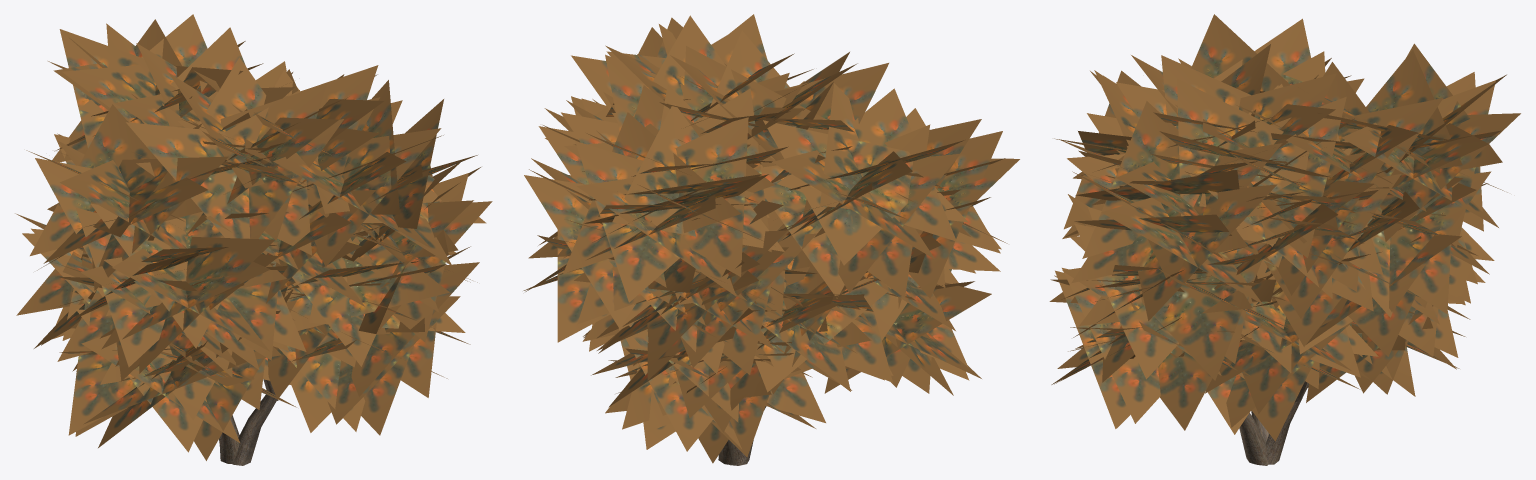
Rendered from Cerasus_Yedoensis_Autumn_Young.glb.
The picture shows the model from 3 angles, left to right: view 1: azimuth 30°, elevation 25°; view 2: azimuth 150°, elevation 25°; view 3: azimuth 270°, elevation 25°; orthographic projection. The views are drawn at different scales.
Parts seen in each view (by area): view 1: Cerasus_Yedoensis_Autumn_Young__LOD3; view 2: Cerasus_Yedoensis_Autumn_Young__LOD3; view 3: Cerasus_Yedoensis_Autumn_Young__LOD3.
Part boxes in pixels (x1,y1,x2,y2): Cerasus_Yedoensis_Autumn_Young__LOD3: (15,14,492,465); Cerasus_Yedoensis_Autumn_Young__LOD3: (523,14,1019,465); Cerasus_Yedoensis_Autumn_Young__LOD3: (1049,14,1520,465).
Bounding box in the file's own units: 4.77 × 4.07 × 4.64.
Materials: 2 (2 with a texture image).
